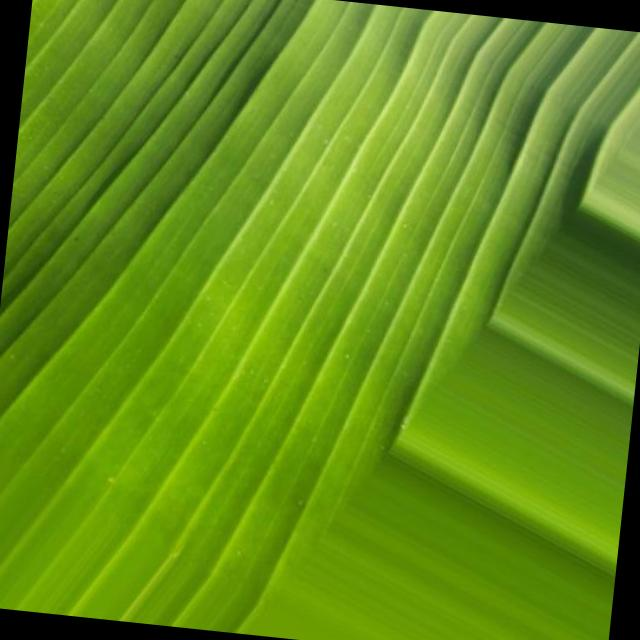Banana_Healthy: (18, 36, 640, 640)
